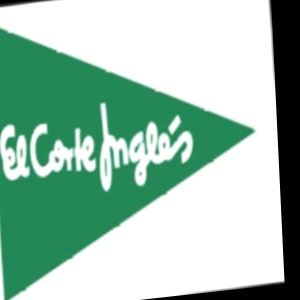corte_ingles: (251, 30, 262, 139)
